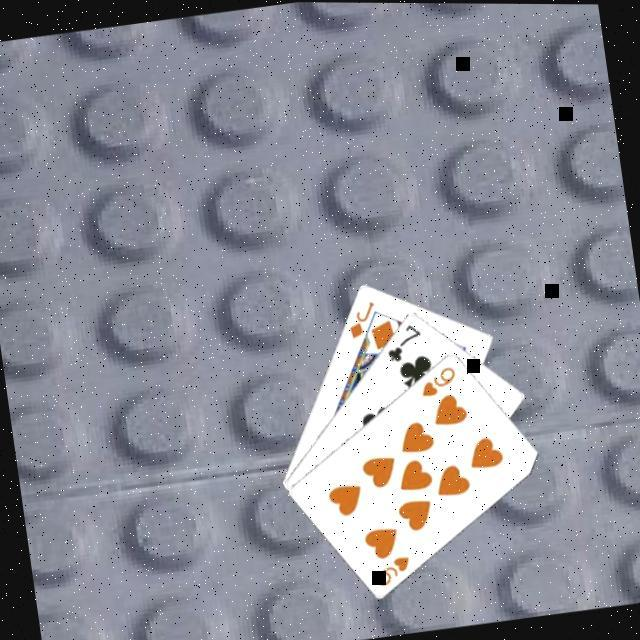7C: (379, 318, 426, 365)
9H: (414, 360, 460, 400), (368, 550, 414, 590)
JD: (342, 296, 381, 341)
